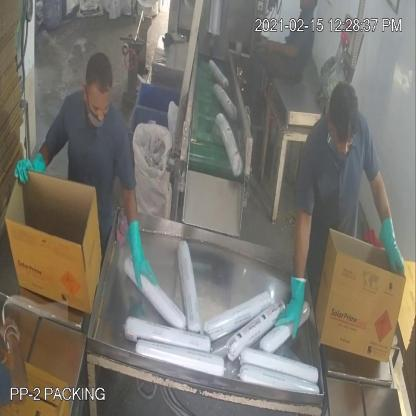glove: (273, 256, 315, 352), (124, 204, 158, 301), (371, 208, 411, 281), (6, 140, 48, 192)
no_glove: (261, 28, 301, 60)
